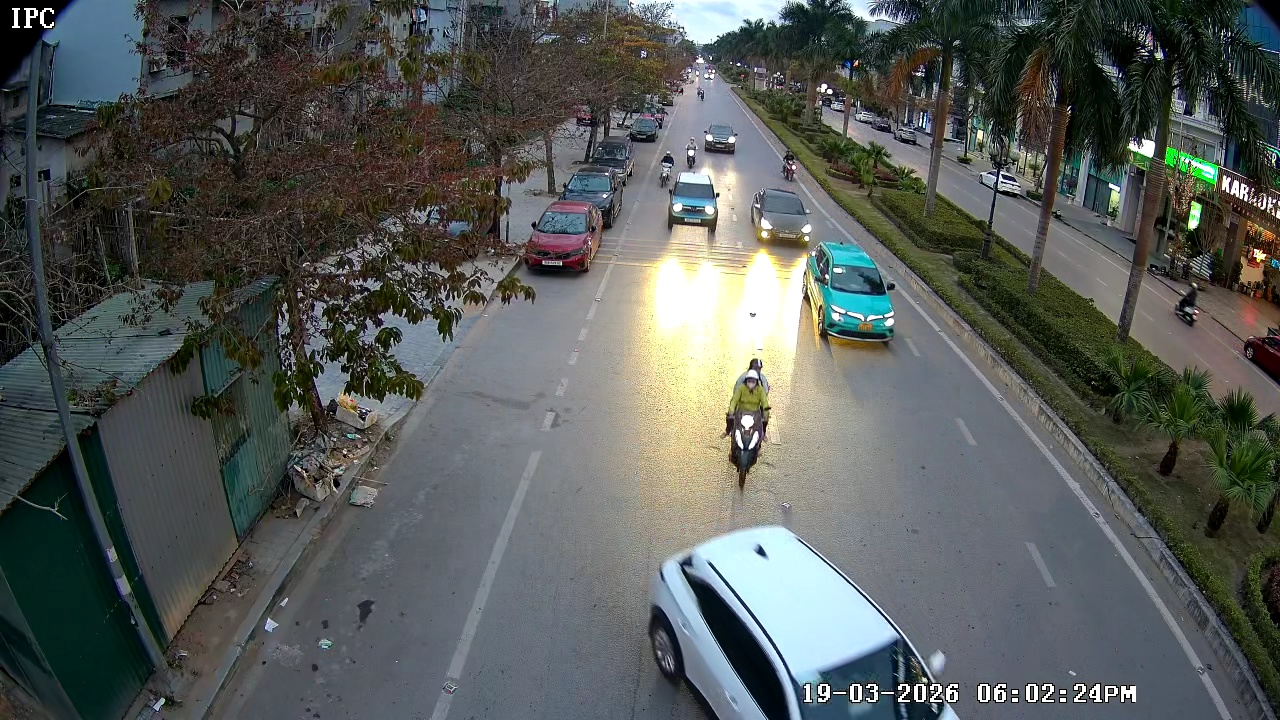car: (643, 522, 961, 719), (802, 241, 897, 347), (523, 201, 603, 276), (751, 185, 813, 247), (664, 170, 721, 236), (561, 169, 622, 228), (628, 112, 661, 147), (705, 120, 738, 155)
motorbike: (714, 352, 780, 493), (780, 150, 800, 183), (659, 150, 676, 188), (683, 137, 698, 171)
